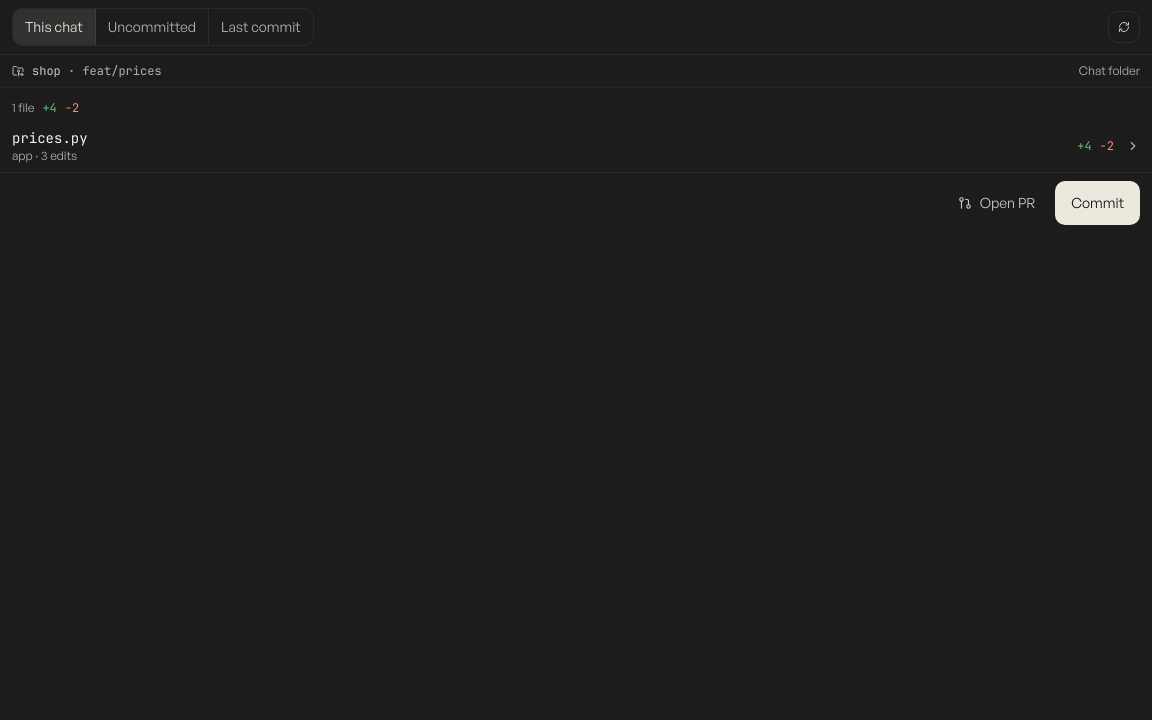
Test case: Revert file › the sheet's Revert reverts exactly that file and says so
Click the button with test id "chat-change-row" at (50, 138), box [0, 120, 1151, 172]
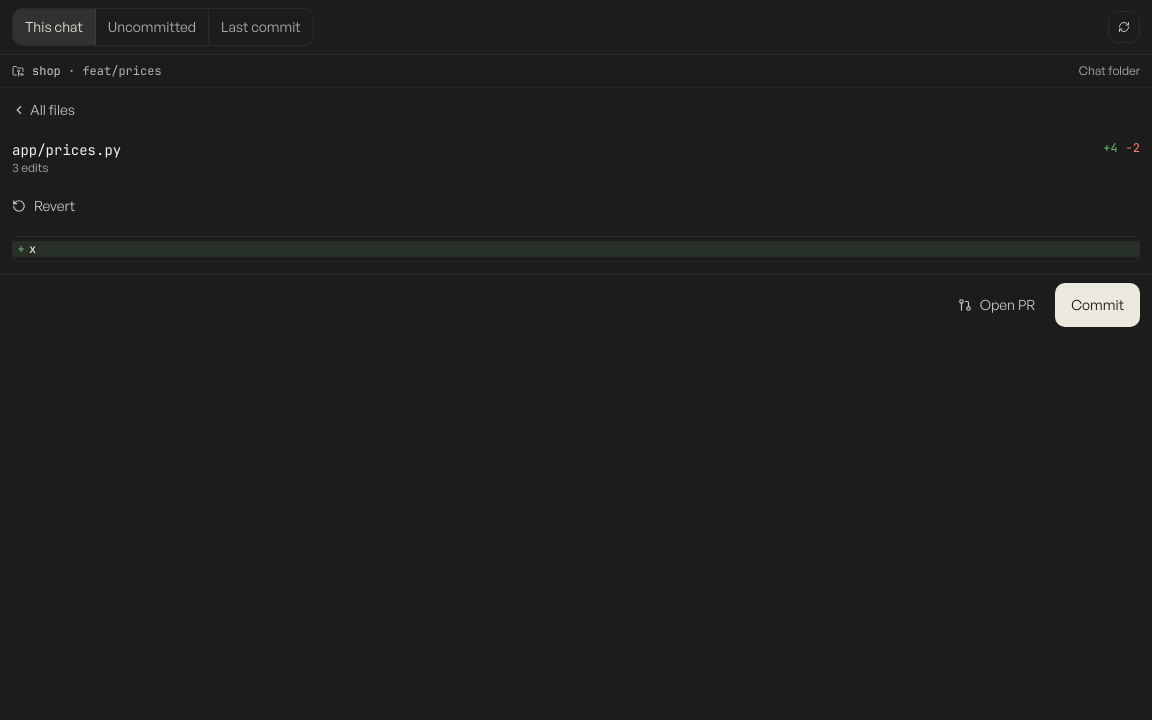
Click the button with test id "chat-change-revert" at (44, 206), box [0, 184, 87, 228]
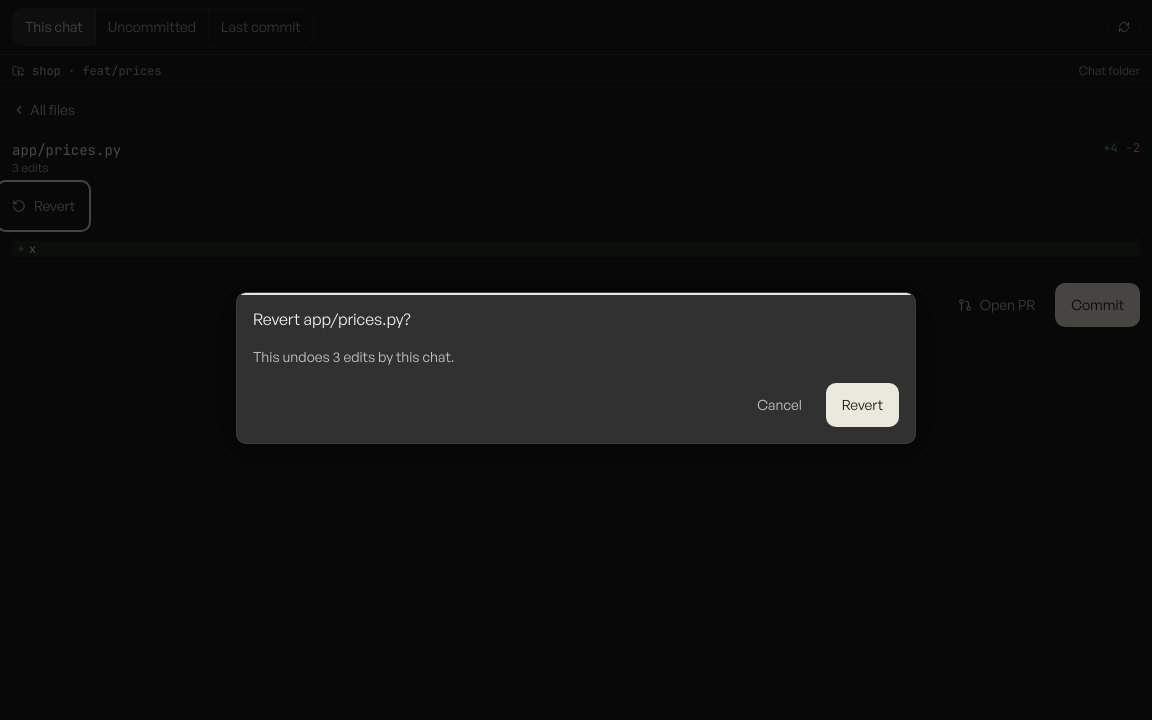
Click the button with test id "revert-sheet-confirm" at (862, 405), box [826, 383, 899, 427]
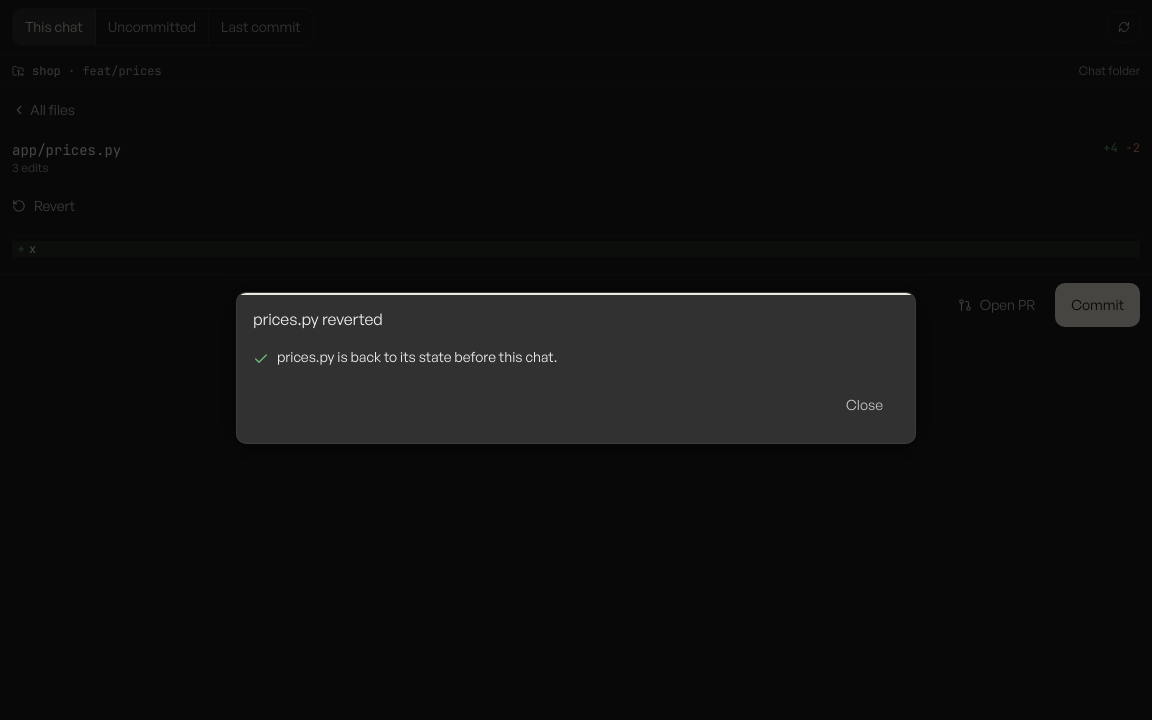
Result: the text "prices.py is back to its state before this chat." is shown at [277, 347, 557, 367]
